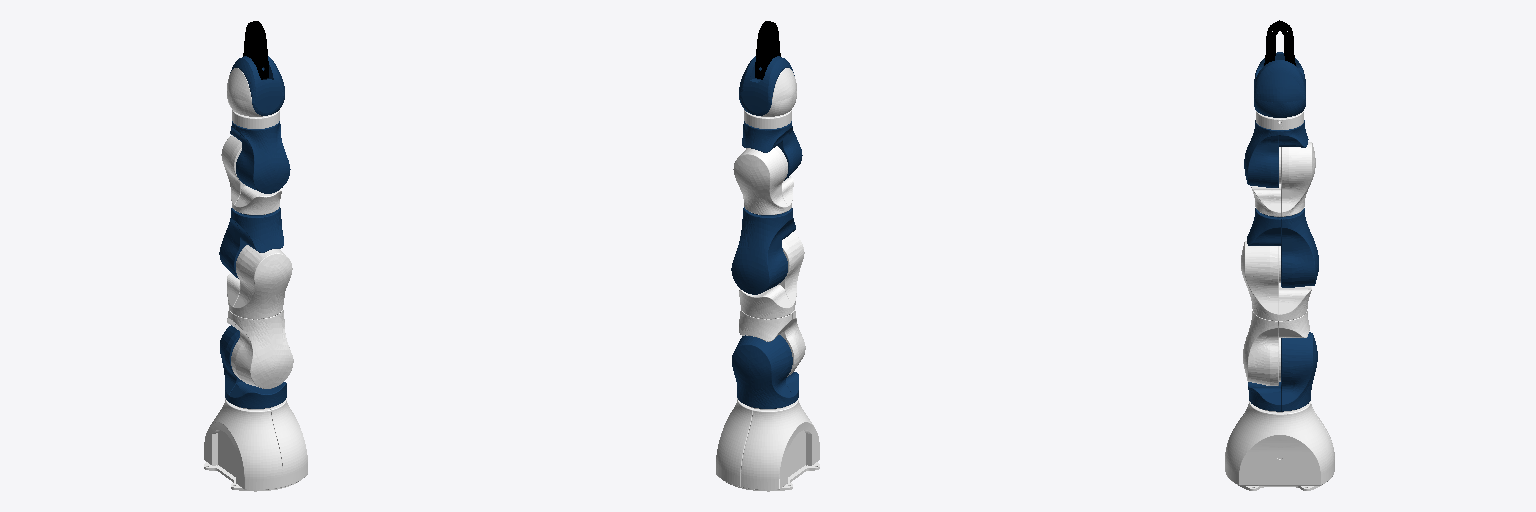
URDF robot description (p_rob):
<?xml version="1.0" ?>
<!-- =================================================================================== -->
<!-- |    This document was autogenerated by xacro from p_rob.urdf.xacro               | -->
<!-- |    EDITING THIS FILE BY HAND IS NOT RECOMMENDED                                 | -->
<!-- =================================================================================== -->
<robot name="p_rob" xmlns:xacro="http://www.ros.org/wiki/xacro">
  <material name="blue">
    <color rgba="0.12549019607843137 0.2784313725490196 0.43529411764705883 1"/>
  </material>
  <material name="black">
    <color rgba="0 0 0 1"/>
  </material>
  <material name="white">
    <color rgba="1 1 1 1"/>
  </material>
  <link name="base_link">
    <inertial>
      <origin rpy="0 0 0" xyz="8.71294630254049E-05 0.508451295685675 -0.00113740271757783"/>
      <mass value="31.8818528911811"/>
      <inertia ixx="4.65436888537887" ixy="-0.0338576061896482" ixz="3.29763186167614E-06" iyy="0.165544422845209" iyz="-0.00333281637307909" izz="4.60911765357231"/>
    </inertial>
    <visual>
      <geometry>
        <mesh filename="package://p_rob_description/meshes/p_base.STL"/>
      </geometry>
      <material name="white"/>
    </visual>
    <collision>
      <geometry>
        <mesh filename="package://p_rob_description/meshes/p_base.STL"/>
      </geometry>
    </collision>
  </link>
  <joint name="p_rob_joint1" type="revolute">
    <origin xyz="0 0 0.212"/>
    <parent link="base_link"/>
    <child link="p_rob_link12"/>
    <limit effort="1.09" lower="-2.96705972839" upper="2.96705972839" velocity="0.829031394697"/>
    <axis xyz="0 0 1"/>
  </joint>
  <link name="p_rob_link12">
    <inertial>
      <origin rpy="0 0 0" xyz="8.71294630254049E-05 0.277951295685675 -0.00113740271757783"/>
      <mass value="3.652"/>
      <inertia ixx="0.06656" ixy="1e-05" ixz="1e-05" iyy="0.0661" iyz="0.00952" izz="0.0076"/>
    </inertial>
    <visual>
      <geometry>
        <mesh filename="package://p_arm_description/meshes/p_rob_2R/link12.STL"/>
      </geometry>
      <material name="blue"/>
    </visual>
    <collision>
      <geometry>
        <mesh filename="package://p_arm_description/meshes/p_rob_2R/link12.STL"/>
      </geometry>
    </collision>
  </link>
  <joint name="p_rob_joint2" type="revolute">
    <origin xyz="0 0 0.1505"/>
    <parent link="p_rob_link12"/>
    <child link="p_rob_link23"/>
    <limit effort="1.09" lower="-1.91986217719" upper="1.91986217719" velocity="0.829031394697"/>
    <axis xyz="0 1 0"/>
  </joint>
  <link name="p_rob_link23">
    <inertial>
      <origin xyz="8.71294630254052E-05 0.000951295697065868 -0.00113740271757783"/>
      <mass value="3.52"/>
      <inertia ixx="0.18406" ixy="2e-05" ixz="-8e-05" iyy="0.18142" iyz="0.01932" izz="0.00841"/>
    </inertial>
    <visual>
      <geometry>
        <mesh filename="package://p_arm_description/meshes/p_rob_2R/link23.STL"/>
      </geometry>
      <material name="white"/>
    </visual>
    <collision>
      <geometry>
        <mesh filename="package://p_arm_description/meshes/p_rob_2R/link23.STL"/>
      </geometry>
    </collision>
  </link>
  <joint name="p_rob_joint3" type="revolute">
    <origin xyz="0 0 0.29"/>
    <parent link="p_rob_link23"/>
    <child link="p_rob_link34"/>
    <limit effort="1.09" lower="-2.00712863979" upper="2.00712863979" velocity="0.829031394697"/>
    <axis xyz="0 1 0"/>
  </joint>
  <link name="p_rob_link34">
    <inertial>
      <origin rpy="0 0 0" xyz="8.71294630254052E-05 -0.313548704302934 -0.00113740271757783"/>
      <mass value="1.626"/>
      <inertia ixx="0.02372" ixy="-2e-05" ixz="4e-05" iyy="0.02243" iyz="0.00024" izz="0.0343"/>
    </inertial>
    <visual>
      <geometry>
        <mesh filename="package://p_arm_description/meshes/p_rob_2R/link34.STL"/>
      </geometry>
      <material name="blue"/>
    </visual>
    <collision>
      <geometry>
        <mesh filename="package://p_arm_description/meshes/p_rob_2R/link34.STL"/>
      </geometry>
    </collision>
  </link>
  <joint name="p_rob_joint4" type="revolute">
    <origin xyz="0 0 0.1645"/>
    <parent link="p_rob_link34"/>
    <child link="p_rob_link45"/>
    <limit effort="0.3275" lower="-2.96705972839" upper="2.96705972839" velocity="0.829031394697"/>
    <axis xyz="0 0 1"/>
  </joint>
  <link name="p_rob_link45">
    <inertial>
      <origin rpy="0 0 0" xyz="8.71294630254052E-05 -0.313548704302934 -0.00113740271757783"/>
      <mass value="1.516"/>
      <inertia ixx="0.02488" ixy="2e-05" ixz="3e-05" iyy="0.02409" iyz="0.00398" izz="0.00272"/>
    </inertial>
    <visual>
      <geometry>
        <mesh filename="package://p_arm_description/meshes/p_rob_2R/link45.STL"/>
      </geometry>
      <material name="white"/>
    </visual>
    <collision>
      <geometry>
        <mesh filename="package://p_arm_description/meshes/p_rob_2R/link45.STL"/>
      </geometry>
    </collision>
  </link>
  <joint name="p_rob_joint5" type="revolute">
    <origin xyz="0 0 0.1455"/>
    <parent link="p_rob_link45"/>
    <child link="p_rob_link56"/>
    <limit effort="0.3275" lower="-2.00712863979" upper="2.00712863979" velocity="0.829031394697"/>
    <axis xyz="0 1 0"/>
  </joint>
  <link name="p_rob_link56">
    <inertial>
      <origin xyz="-8.71294630254049E-05 -0.588048704302934 0.00113740271757783"/>
      <mass value="1.417"/>
      <inertia ixx="0.01351" ixy="-2e-05" ixz="-3e-05" iyy="0.01261" iyz="-0.00012" izz="0.00274"/>
    </inertial>
    <visual>
      <geometry>
        <mesh filename="package://p_arm_description/meshes/p_rob_2R/link56.STL"/>
      </geometry>
      <material name="blue"/>
    </visual>
    <collision>
      <geometry>
        <mesh filename="package://p_arm_description/meshes/p_rob_2R/link56.STL"/>
      </geometry>
    </collision>
  </link>
  <joint name="p_rob_joint6" type="revolute">
    <origin xyz="0 0 0.129"/>
    <parent link="p_rob_link56"/>
    <child link="p_rob_link6G"/>
    <limit effort="0.179324" lower="-2.96705972839" upper="2.96705972839" velocity="1.65806278939"/>
    <axis xyz="0 0 1"/>
  </joint>
  <link name="p_rob_link6G">
    <inertial>
      <origin xyz="-0.00113740271757783 0.588048704302934 8.7129463025477E-05"/>
      <mass value="0.435"/>
      <inertia ixx="0.00079" ixy="0.0" ixz="0.0" iyy="0.00086" iyz="-1e-05" izz="0.00084"/>
    </inertial>
    <visual>
      <geometry>
        <mesh filename="package://p_arm_description/meshes/p_rob_2R/link6G.STL"/>
      </geometry>
      <material name="white"/>
    </visual>
    <collision>
      <geometry>
        <mesh filename="package://p_arm_description/meshes/p_rob_2R/link6G.STL"/>
      </geometry>
    </collision>
  </link>
  <joint name="p_rob_gripper_interface_joint" type="fixed">
    <origin xyz="0 0 0.046"/>
    <parent link="p_rob_link6G"/>
    <child link="p_rob_gripper_interface_link"/>
  </joint>
  <link name="p_rob_gripper_interface_link"/>
  <joint name="p_rob_back_cover_joint" type="fixed">
    <parent link="p_rob_gripper_interface_link"/>
    <child link="p_rob_back_cover"/>
  </joint>
  <link name="p_rob_back_cover">
    <inertial>
      <origin xyz="2.24196111270369E-06 -0.00408460946644196 -0.0510660065280277"/>
      <mass value="0.82454352978473"/>
      <inertia ixx="0.00151927417232363" ixy="-3.02654547820246E-07" ixz="-4.4543064624827E-08" iyy="0.00163894166884312" iyz="-2.0883019834409E-05" izz="0.00153211830480003"/>
    </inertial>
    <visual>
      <geometry>
        <mesh filename="package://p_grip_description/meshes/p_grip_2F/back_cover.STL"/>
      </geometry>
      <material name="white"/>
    </visual>
    <collision>
      <geometry>
        <mesh filename="package://p_grip_description/meshes/p_grip_2F/back_cover.STL"/>
      </geometry>
    </collision>
  </link>
  <!-- Main body of the gripper. -->
  <joint name="p_rob_p_grip_connector" type="fixed">
    <origin rpy="0 -1.57 3.14" xyz="-0.052 0 0.052"/>
    <parent link="p_rob_gripper_interface_link"/>
    <child link="p_rob_gripper_link"/>
  </joint>
  <link name="p_rob_gripper_link">
    <inertial>
      <origin xyz="2.24196111270369E-06 -0.00408460946644196 -0.0510660065280277"/>
      <mass value="0.82454352978473"/>
      <inertia ixx="0.00151927417232363" ixy="-3.02654547820246E-07" ixz="-4.4543064624827E-08" iyy="0.00163894166884312" iyz="-2.0883019834409E-05" izz="0.00153211830480003"/>
    </inertial>
    <visual>
      <geometry>
        <mesh filename="package://p_grip_description/meshes/p_grip_2F/p_grip.STL"/>
      </geometry>
      <material name="blue"/>
    </visual>
    <collision>
      <geometry>
        <mesh filename="package://p_grip_description/meshes/p_grip_2F/p_grip.STL"/>
      </geometry>
    </collision>
  </link>
  <!-- The left finger can be actuated via ROS. -->
  <joint name="p_rob_gripper_joint" type="revolute">
    <origin rpy="0 0 0" xyz="0.0645 0 0.052"/>
    <parent link="p_rob_gripper_link"/>
    <child link="p_rob_left_finger"/>
    <limit effort="0.11997" lower="0.0" upper="0.523598775598" velocity="1.0471975512"/>
    <axis xyz="0 0 1"/>
  </joint>
  <link name="p_rob_left_finger">
    <visual>
      <origin rpy="0 0 0"/>
      <geometry>
        <mesh filename="package://p_grip_description/meshes/p_grip_2F/finger.STL"/>
      </geometry>
      <material name="black"/>
    </visual>
    <collision>
      <origin rpy="0 0 0"/>
      <geometry>
        <mesh filename="package://p_grip_description/meshes/p_grip_2F/finger.STL"/>
      </geometry>
    </collision>
  </link>
  <!-- The right finger simply mirrors the left one. -->
  <joint name="p_rob_passive_gripper_joint" type="revolute">
    <mimic joint="p_rob_gripper_joint" multiplier="-1" offset="0"/>
    <origin rpy="0 0 0" xyz="0.0645 0 0.052"/>
    <parent link="p_rob_gripper_link"/>
    <child link="p_rob_right_finger"/>
    <limit effort="1000.0" lower="0" upper="0.52" velocity="170"/>
    <axis xyz="0 0 1"/>
  </joint>
  <link name="p_rob_right_finger">
    <visual>
      <origin rpy="3.14159265359 0 0"/>
      <geometry>
        <mesh filename="package://p_grip_description/meshes/p_grip_2F/finger.STL"/>
      </geometry>
      <material name="black"/>
    </visual>
    <collision>
      <origin rpy="3.14159265359 0 0"/>
      <geometry>
        <mesh filename="package://p_grip_description/meshes/p_grip_2F/finger.STL"/>
      </geometry>
    </collision>
  </link>
  <!-- The tool center point is used for kinematics and path planning. -->
  <joint name="p_rob_tcp_joint" type="fixed">
    <origin rpy="0 0 0" xyz="0.189 0 0.052"/>
    <parent link="p_rob_gripper_link"/>
    <child link="p_rob_tcp_link"/>
  </joint>
  <link name="p_rob_tcp_link"/>
</robot>

--- Facts derived from the render (not from the file) ---
Views: 3 orthographic renders of the robot side by side, from view 1: azimuth 30°, elevation 25°; view 2: azimuth 150°, elevation 25°; view 3: azimuth 270°, elevation 25°.
Robot: p_rob — 13 links, 12 joints (8 revolute, 4 fixed); root link base_link; default pose: every joint at zero.
Visible links, largest first — view 1: p_rob_link23, base_link, p_rob_link56, p_rob_link34, p_rob_link12, p_rob_link45, p_rob_gripper_link, p_rob_back_cover, p_rob_left_finger, p_rob_link6G; view 2: base_link, p_rob_link12, p_rob_link23, p_rob_link34, p_rob_link45, p_rob_gripper_link, p_rob_link56, p_rob_back_cover, p_rob_right_finger, p_rob_link6G; view 3: base_link, p_rob_link23, p_rob_link34, p_rob_link12, p_rob_link45, p_rob_gripper_link, p_rob_link56, p_rob_link6G.
Boxes of the visible links, x1,y1,x2,y2 form: p_rob_link23: (227, 245, 293, 388); base_link: (204, 398, 307, 491); p_rob_link56: (230, 121, 290, 193); p_rob_link34: (219, 207, 283, 278); p_rob_link12: (220, 325, 286, 408); p_rob_link45: (221, 135, 281, 214); p_rob_gripper_link: (230, 56, 284, 115); p_rob_back_cover: (227, 68, 262, 116); p_rob_left_finger: (253, 21, 268, 79); p_rob_link6G: (232, 110, 279, 128); base_link: (716, 398, 819, 491); p_rob_link12: (732, 335, 798, 408); p_rob_link23: (739, 232, 805, 376); p_rob_link34: (731, 207, 795, 294); p_rob_link45: (733, 146, 793, 214); p_rob_gripper_link: (739, 56, 794, 115); p_rob_link56: (742, 121, 802, 180); p_rob_back_cover: (761, 68, 796, 116); p_rob_right_finger: (755, 21, 770, 79); p_rob_link6G: (744, 110, 791, 128); base_link: (1225, 401, 1334, 490); p_rob_link23: (1241, 241, 1311, 385); p_rob_link34: (1247, 208, 1318, 287); p_rob_link12: (1248, 332, 1317, 411); p_rob_link45: (1251, 142, 1315, 216); p_rob_gripper_link: (1254, 52, 1305, 117); p_rob_link56: (1244, 120, 1308, 187); p_rob_link6G: (1256, 111, 1303, 129).
Size in the robot's own frame: 0.25 by 0.31 by 1.4 metres.
11 mesh visuals loaded from 10 distinct referenced files (10 binary STL).